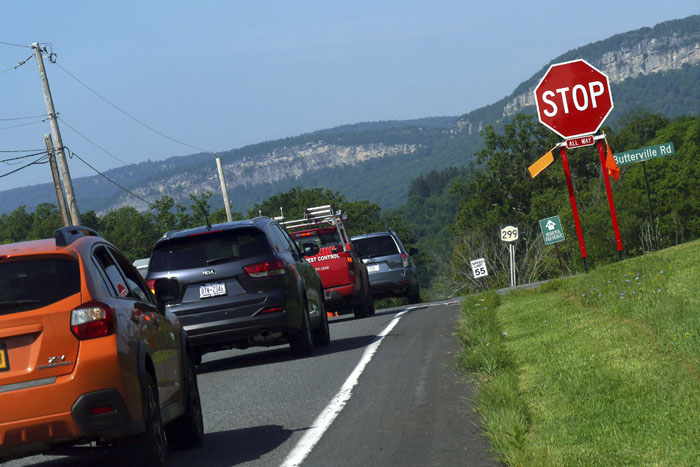stopsign: (534, 57, 616, 138)
